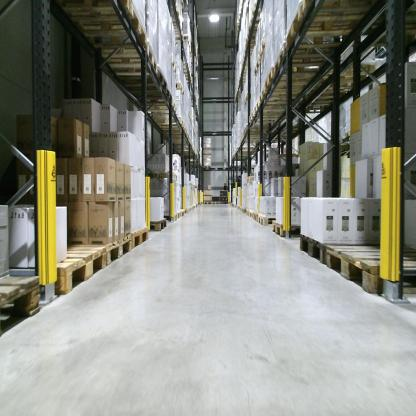pallet: (325, 240, 415, 296), (282, 5, 358, 50), (77, 1, 147, 49), (51, 242, 109, 294), (1, 272, 42, 335), (98, 37, 157, 76), (78, 230, 133, 269), (274, 44, 332, 75), (298, 230, 342, 268), (109, 64, 168, 92), (58, 0, 131, 20), (265, 68, 317, 91), (257, 84, 314, 102), (299, 2, 372, 16), (270, 220, 313, 240), (253, 96, 299, 112), (247, 107, 289, 123), (124, 90, 172, 104), (138, 98, 176, 114), (150, 117, 186, 131), (131, 226, 149, 252), (245, 124, 281, 136), (249, 1, 267, 21), (160, 126, 188, 138), (246, 18, 263, 37), (257, 213, 280, 227), (167, 47, 178, 74), (147, 218, 167, 232), (173, 34, 191, 49), (258, 35, 266, 65), (251, 57, 260, 77), (145, 171, 163, 180), (161, 172, 180, 180), (246, 173, 258, 184), (176, 81, 185, 95), (168, 212, 178, 222), (243, 92, 250, 105), (177, 1, 186, 10), (254, 211, 260, 221), (202, 164, 212, 170), (249, 210, 254, 220), (245, 209, 250, 218), (203, 200, 212, 205), (212, 200, 220, 205), (180, 208, 185, 216), (220, 201, 228, 205), (177, 212, 181, 219)
